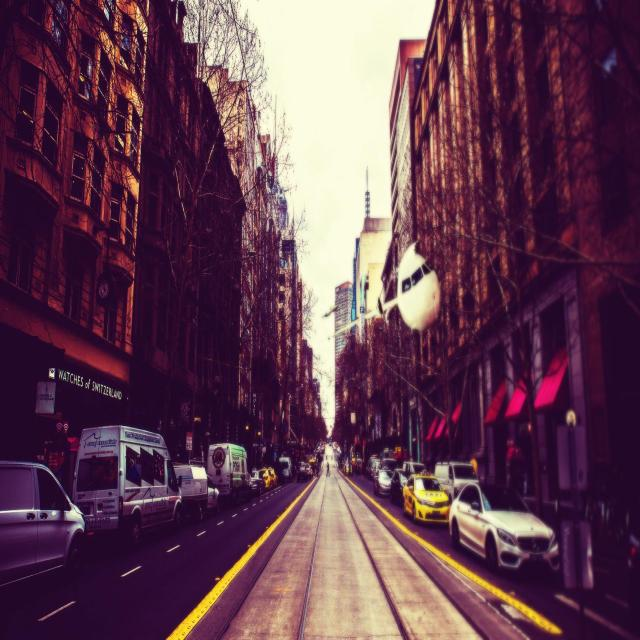airplane: (322, 240, 441, 340)
